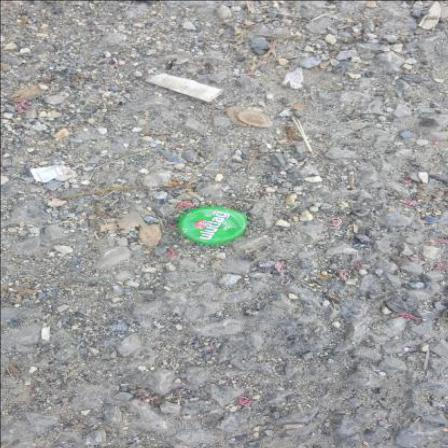Bottle cap: (179, 207, 249, 246)
Cigarette: (150, 74, 224, 103)
Other plastic: (326, 216, 344, 230), (397, 313, 422, 321), (239, 397, 257, 407), (276, 263, 288, 274), (180, 201, 196, 209), (354, 261, 366, 270), (339, 270, 348, 281), (17, 106, 26, 116), (237, 73, 255, 78), (22, 100, 32, 108), (404, 178, 413, 186), (410, 257, 422, 263), (140, 397, 152, 403), (431, 242, 448, 246), (406, 202, 417, 208), (438, 265, 448, 271), (281, 280, 291, 286), (170, 250, 176, 258), (152, 399, 158, 406), (383, 420, 389, 424), (431, 140, 441, 142), (225, 381, 229, 385), (51, 198, 58, 200), (212, 346, 214, 350)
Unlabeled litter: (32, 166, 64, 184)
